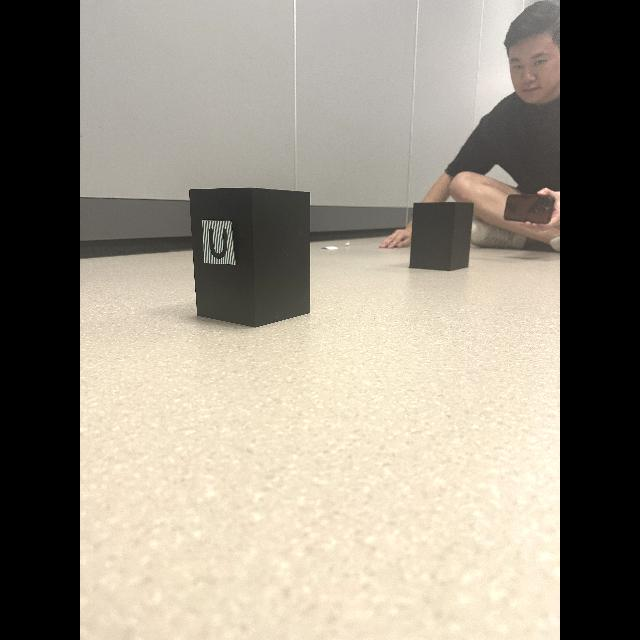U: (209, 228, 227, 259)
